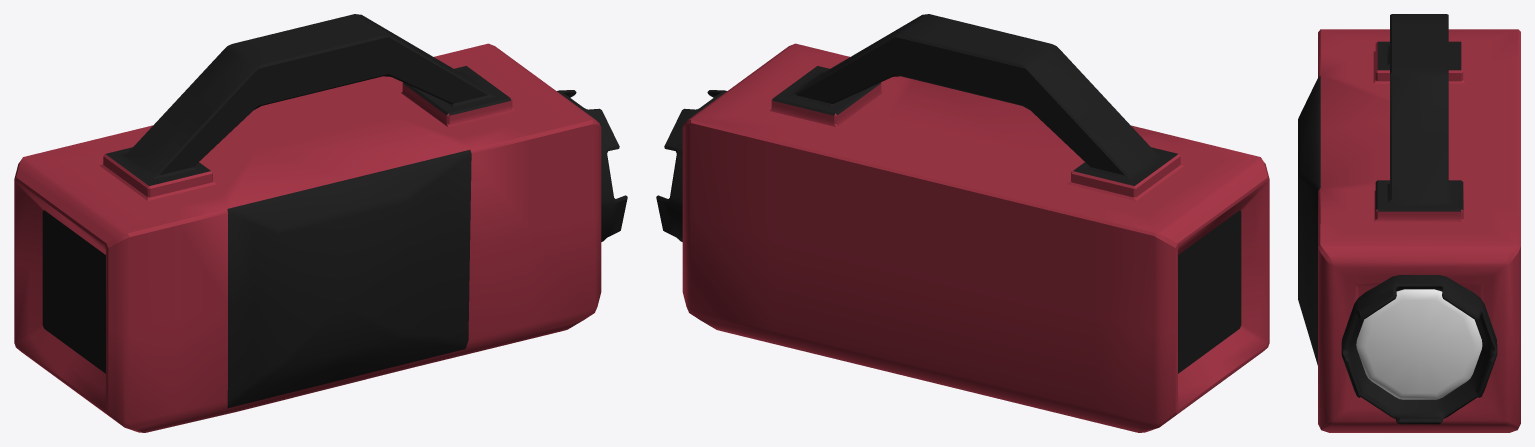
The model's file is industrialFlashlight.fbx.
The picture shows the model from 3 angles, left to right: view 1: azimuth 30°, elevation 25°; view 2: azimuth 150°, elevation 25°; view 3: azimuth 270°, elevation 25°; orthographic projection. The views are drawn at different scales.
Visible parts, largest first — view 1: Cube; view 2: Cube; view 3: Cube.
Part boxes in pixels (x1=…): Cube: x1=14, y1=14, x2=627, y2=432; Cube: x1=656, y1=14, x2=1269, y2=432; Cube: x1=1298, y1=14, x2=1520, y2=432.
Size of the model in its own units: 1469 by 822 by 565.
